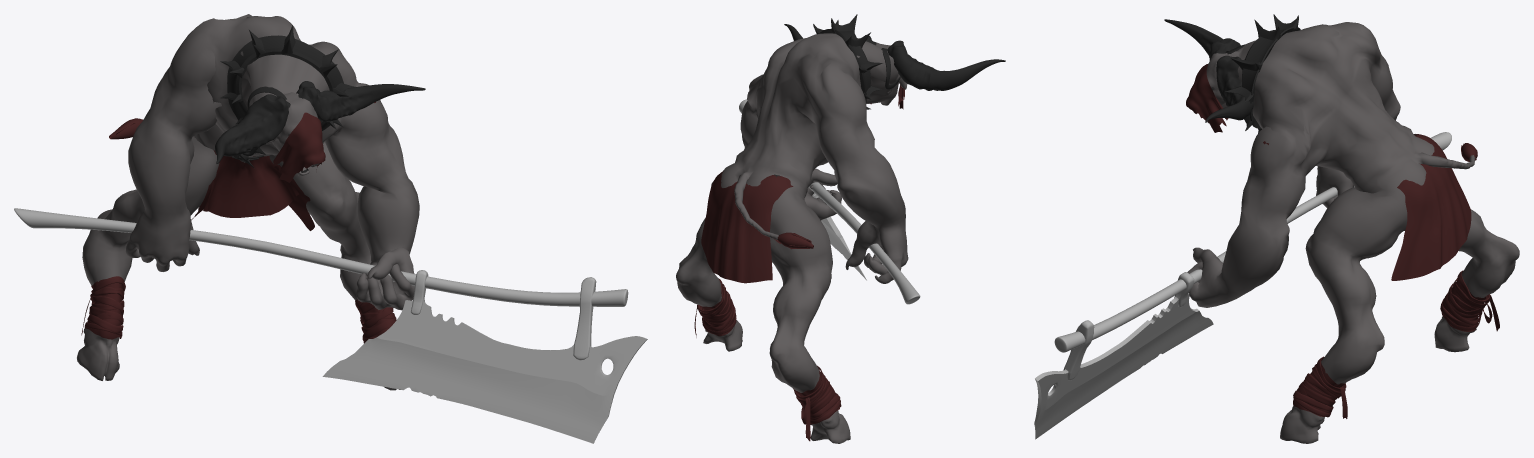
The model's file is Minotaur Model Ref.fbx.
The picture shows the model from 3 angles, left to right: view 1: azimuth 30°, elevation 25°; view 2: azimuth 150°, elevation 25°; view 3: azimuth 270°, elevation 25°; orthographic projection. The views are drawn at different scales.
Visible parts, largest first — view 1: Minotaur1; view 2: Minotaur1; view 3: Minotaur1.
Boxes of the visible parts, box(x1,y1,x2,y2) form: Minotaur1: box(14, 14, 647, 443); Minotaur1: box(676, 14, 1005, 443); Minotaur1: box(1034, 14, 1519, 443).
Size of the model in its own units: 32.65 by 29.87 by 35.95.
